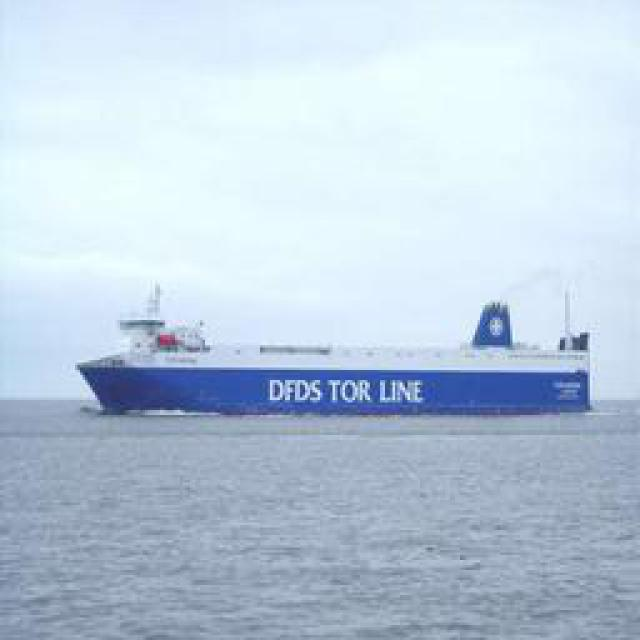Ship: (87, 287, 597, 417)
